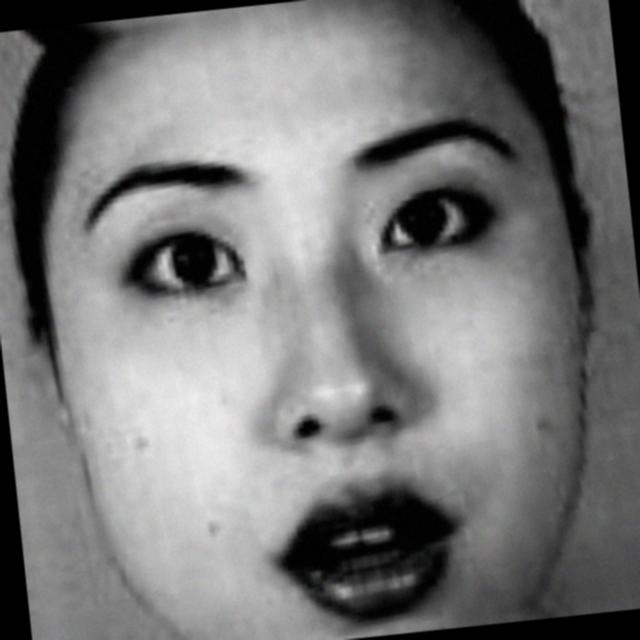surprise: (47, 7, 620, 640)
